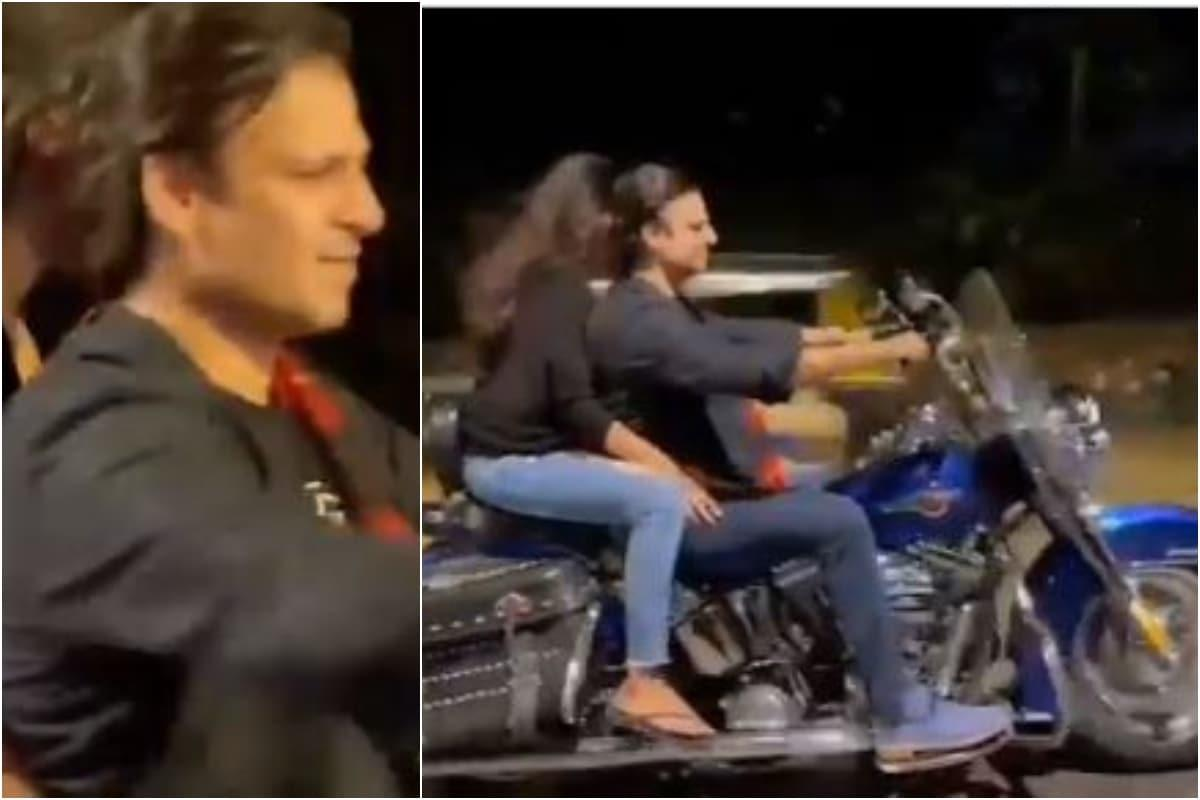nohelmet: (0, 0, 404, 383), (587, 154, 734, 289), (493, 141, 618, 275)
